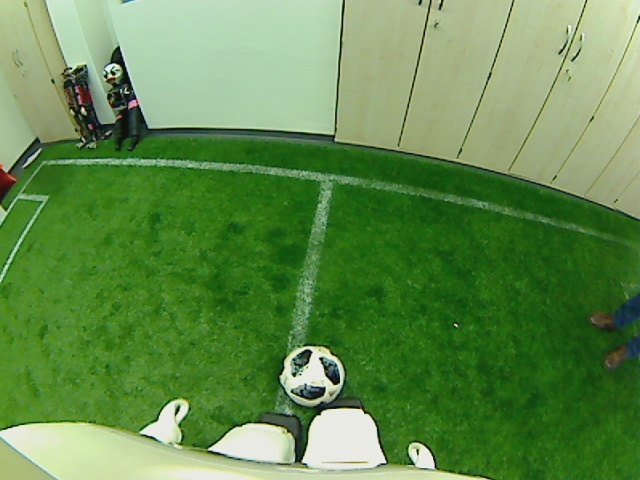ball: (276, 343, 345, 408)
